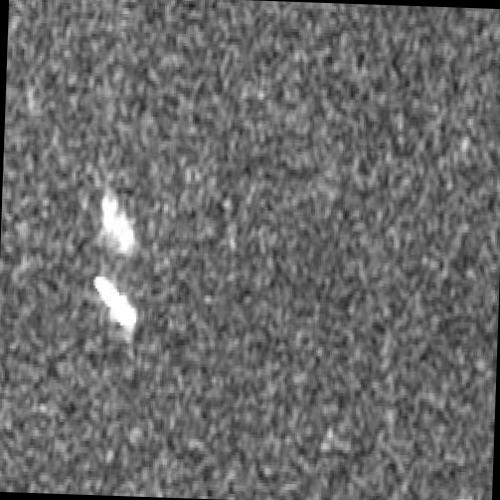ship: (93, 275, 137, 331), (99, 196, 136, 252)
